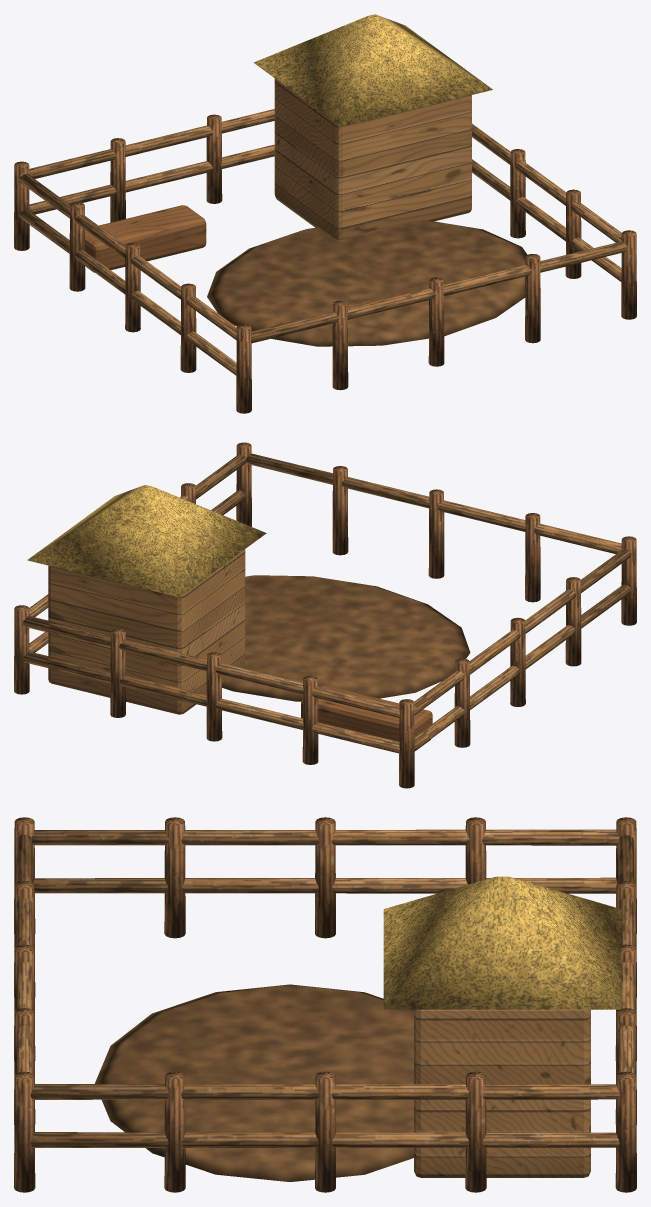
The model's file is pig_sty.glb.
The picture shows the model from 3 angles, top to bottom: view 1: azimuth 30°, elevation 25°; view 2: azimuth 150°, elevation 25°; view 3: azimuth 270°, elevation 25°; orthographic projection. The views are drawn at different scales.
Parts seen in each view (by area): view 1: PigSty; view 2: PigSty; view 3: PigSty.
Boxes of the visible parts, x1,y1,x2,y2 form: PigSty: (14, 14, 636, 413); PigSty: (14, 442, 636, 788); PigSty: (14, 817, 636, 1192).
Bounding box in the file's own units: 3.52 × 1.6 × 3.52.
Materials: 1 (1 with a texture image).
